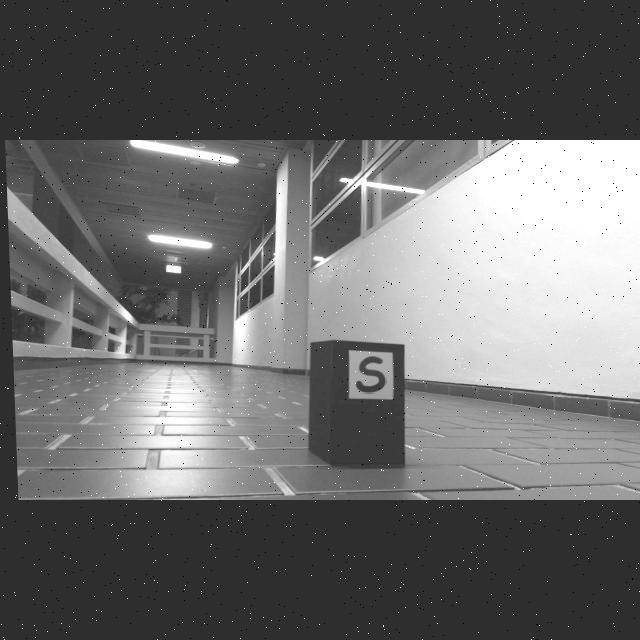S: (353, 356, 383, 393)
